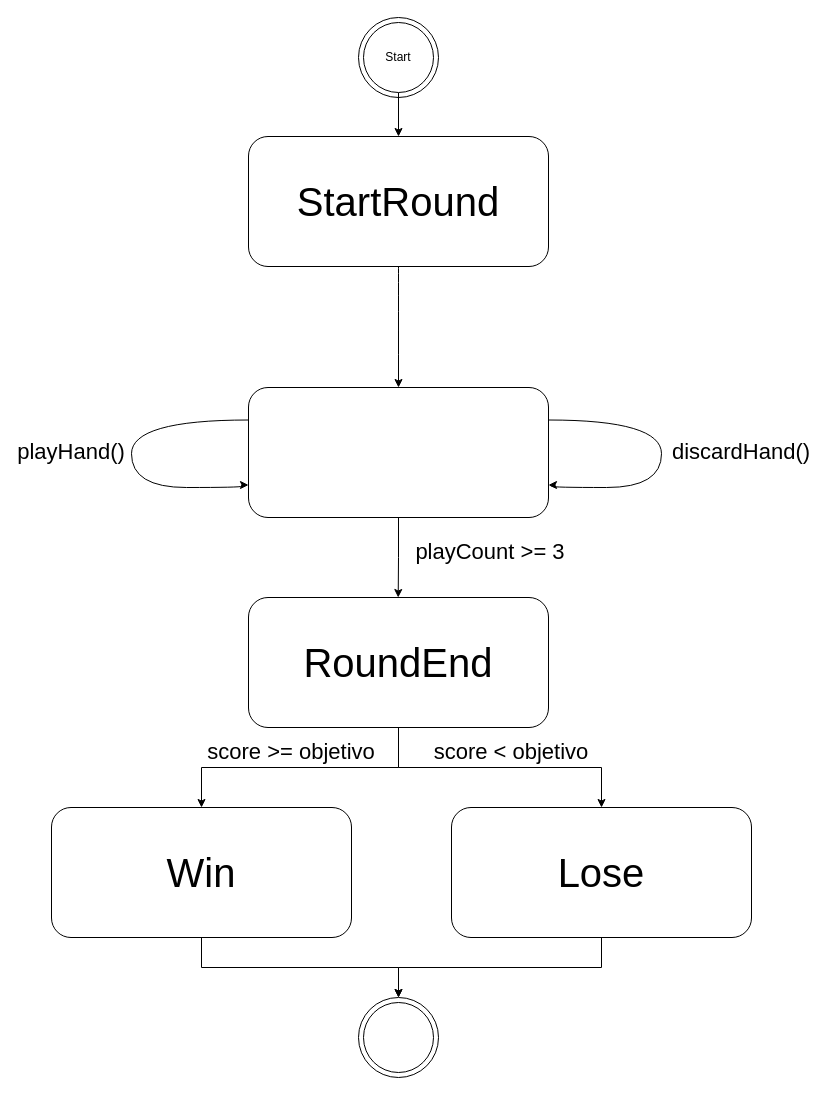
This 827x1095 diagram has some shape labels left out. The centre of each missing label's shape, as x and y in pixels:
"Finish" belongs at [398,1037].
"PlayerTurn" belongs at [398,452].
